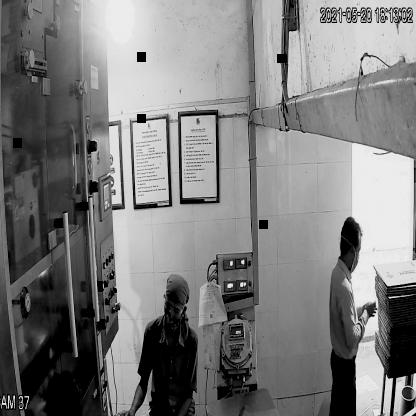goggles: (162, 295, 186, 319)
